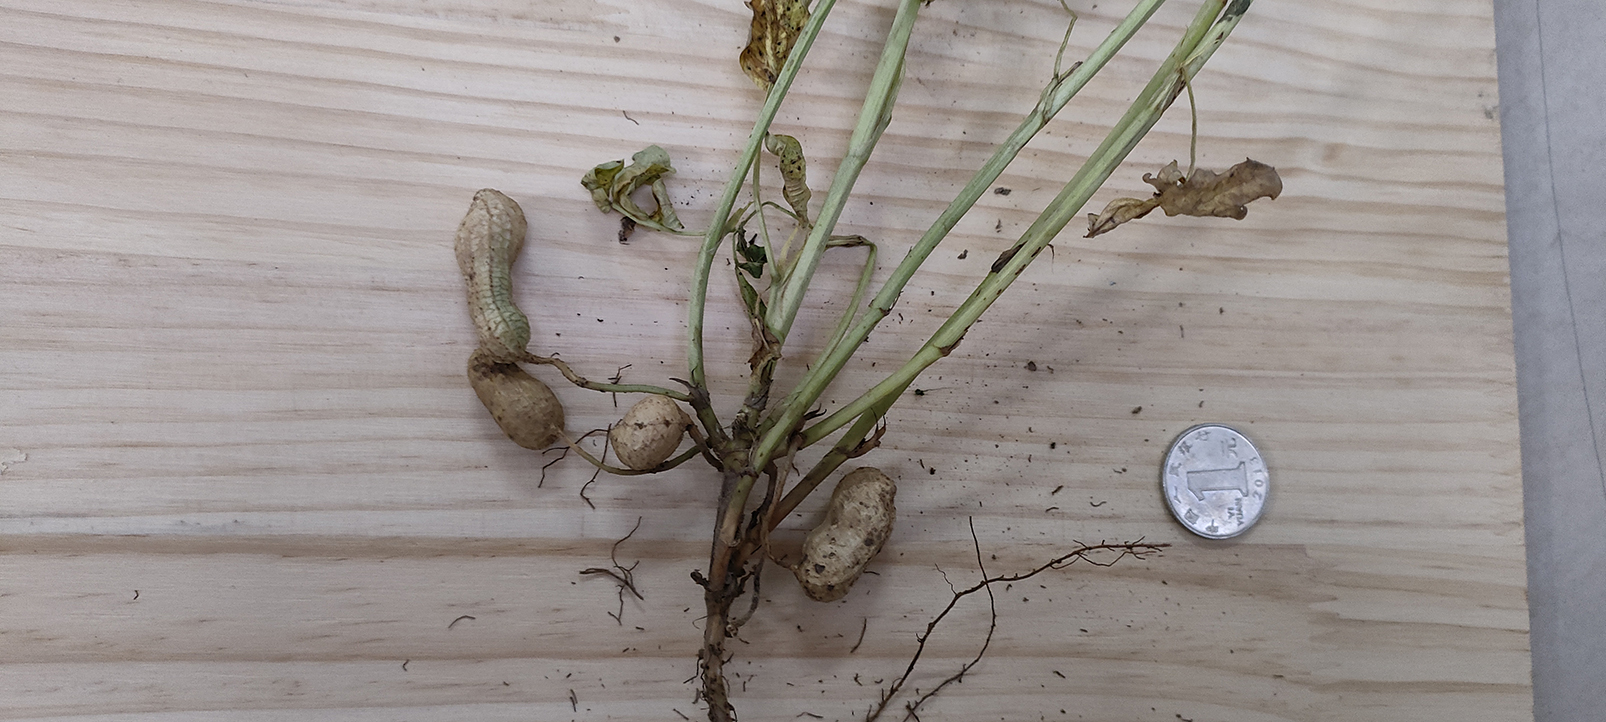h: (454, 182, 529, 360), (797, 466, 897, 597), (465, 362, 568, 445), (610, 394, 685, 473)
